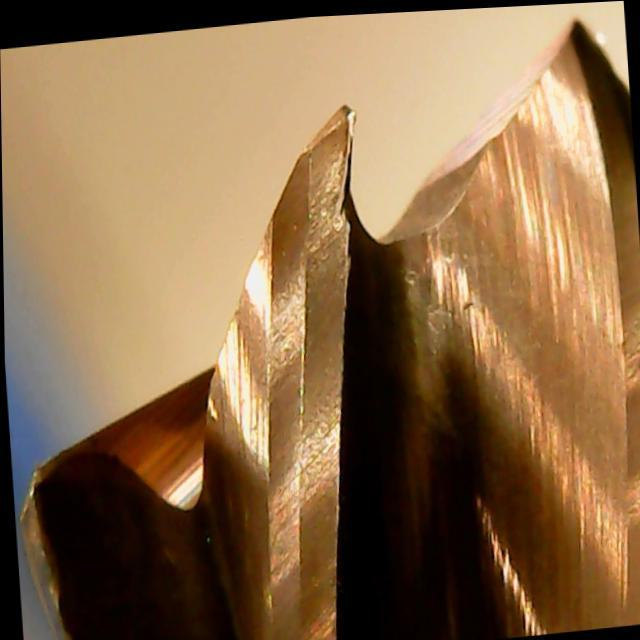Tool-wear-class-1: (233, 98, 391, 416)
